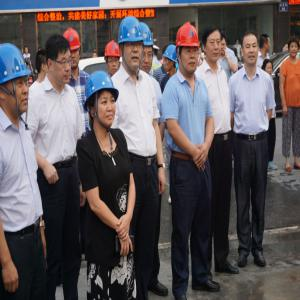blue: (1, 43, 30, 117), (82, 72, 118, 128), (120, 17, 144, 73), (140, 23, 155, 76), (163, 45, 179, 74)
none: (46, 37, 72, 85), (204, 27, 223, 63), (241, 32, 259, 67), (36, 49, 49, 76), (288, 37, 300, 60), (260, 33, 272, 55), (263, 58, 274, 77), (221, 33, 228, 57), (25, 47, 30, 56), (198, 47, 203, 56)
red: (176, 22, 199, 73), (64, 29, 83, 71), (106, 41, 122, 76)
